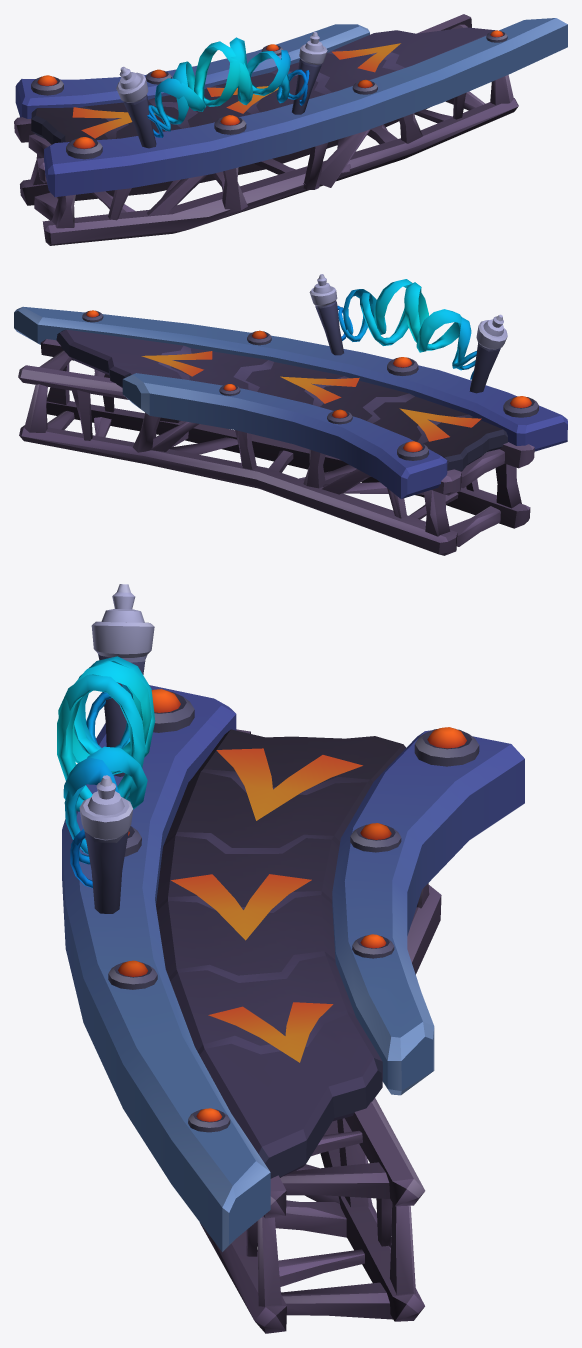
The model's file is SM_Platform_Accelerator_01.fbx.
The picture shows the model from 3 angles, top to bottom: view 1: azimuth 30°, elevation 25°; view 2: azimuth 150°, elevation 25°; view 3: azimuth 270°, elevation 25°; orthographic projection. The views are drawn at different scales.
Visible parts, largest first — view 1: SM_Platform_Accelerator_01; view 2: SM_Platform_Accelerator_01; view 3: SM_Platform_Accelerator_01.
Boxes of the visible parts, x1,y1,x2,y2 form: SM_Platform_Accelerator_01: [14, 14, 567, 245]; SM_Platform_Accelerator_01: [14, 274, 567, 555]; SM_Platform_Accelerator_01: [57, 584, 524, 1333].
Bounding box in the file's own units: 11.01 × 3.76 × 4.2.
